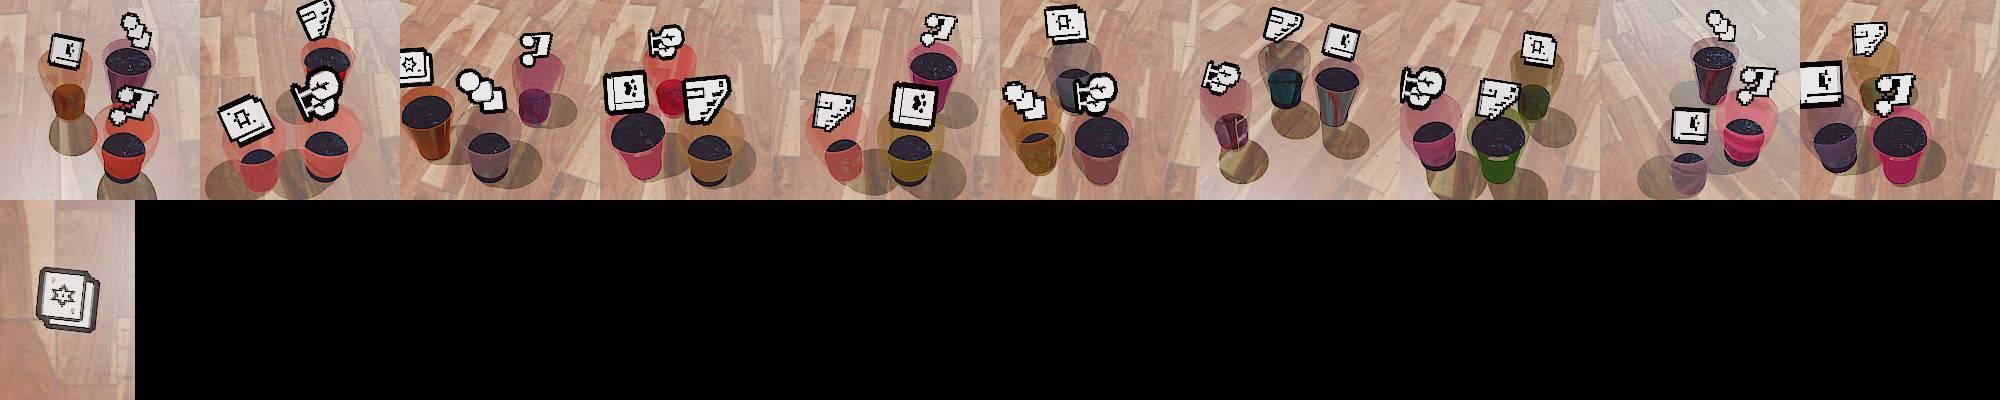icon: (34, 266, 102, 335), (216, 92, 276, 148), (289, 68, 343, 121), (682, 74, 732, 126), (455, 67, 508, 115), (889, 81, 939, 131), (1797, 59, 1844, 110), (1071, 71, 1119, 119), (602, 69, 650, 116), (1400, 63, 1447, 109), (1475, 76, 1521, 120), (1002, 80, 1047, 122), (1042, 5, 1087, 47), (1873, 72, 1918, 113), (813, 90, 856, 132), (113, 84, 160, 122), (1736, 64, 1779, 103), (1320, 22, 1361, 62), (296, 0, 335, 42), (1670, 105, 1710, 145), (1264, 6, 1305, 45), (47, 32, 86, 72), (1519, 30, 1557, 68), (1201, 59, 1240, 96), (120, 11, 155, 52), (400, 48, 434, 89), (921, 12, 959, 48), (648, 24, 684, 61), (1852, 21, 1888, 57), (519, 31, 554, 64), (1705, 9, 1736, 42)
